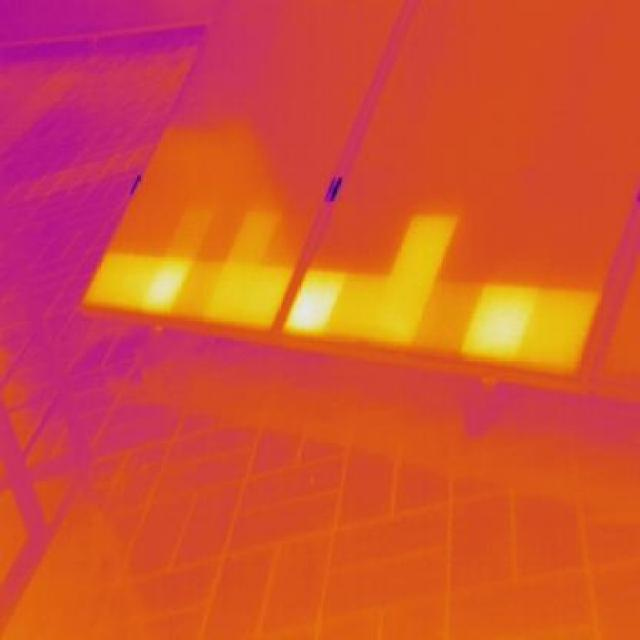hotspot: (467, 285, 539, 358), (286, 262, 346, 342), (532, 292, 582, 372), (401, 214, 453, 274), (374, 281, 418, 344), (147, 255, 191, 312), (94, 255, 138, 308), (232, 210, 272, 264)
